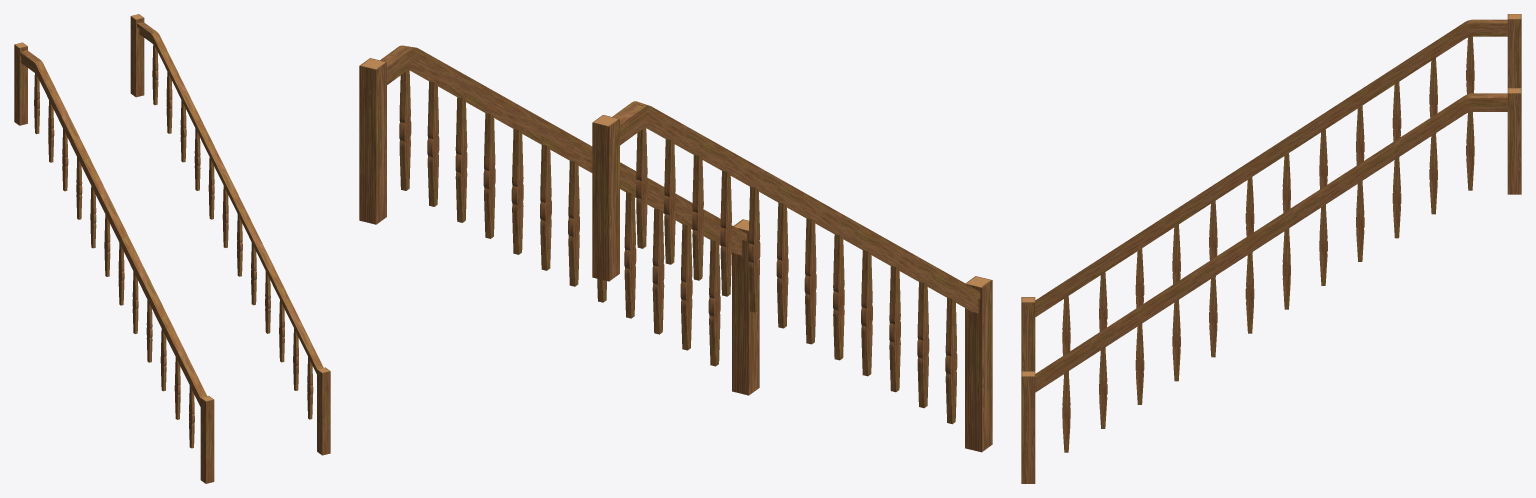
Rendered from stair-interior-rails.glb.
3 views of the same model, side by side, from view 1: azimuth 30°, elevation 25°; view 2: azimuth 150°, elevation 25°; view 3: azimuth 270°, elevation 25° (orthographic). The views are drawn at different scales.
Parts seen in each view (by area): view 1: Stair_Interior_Rails; view 2: Stair_Interior_Rails; view 3: Stair_Interior_Rails.
Boxes of the visible parts, x1,y1,x2,y2 form: Stair_Interior_Rails: (14, 14, 330, 483); Stair_Interior_Rails: (359, 45, 992, 452); Stair_Interior_Rails: (1021, 14, 1521, 483).
Size of the model in its own units: 1.72 by 3.93 by 4.56.
Materials: 1 (1 with a texture image).
